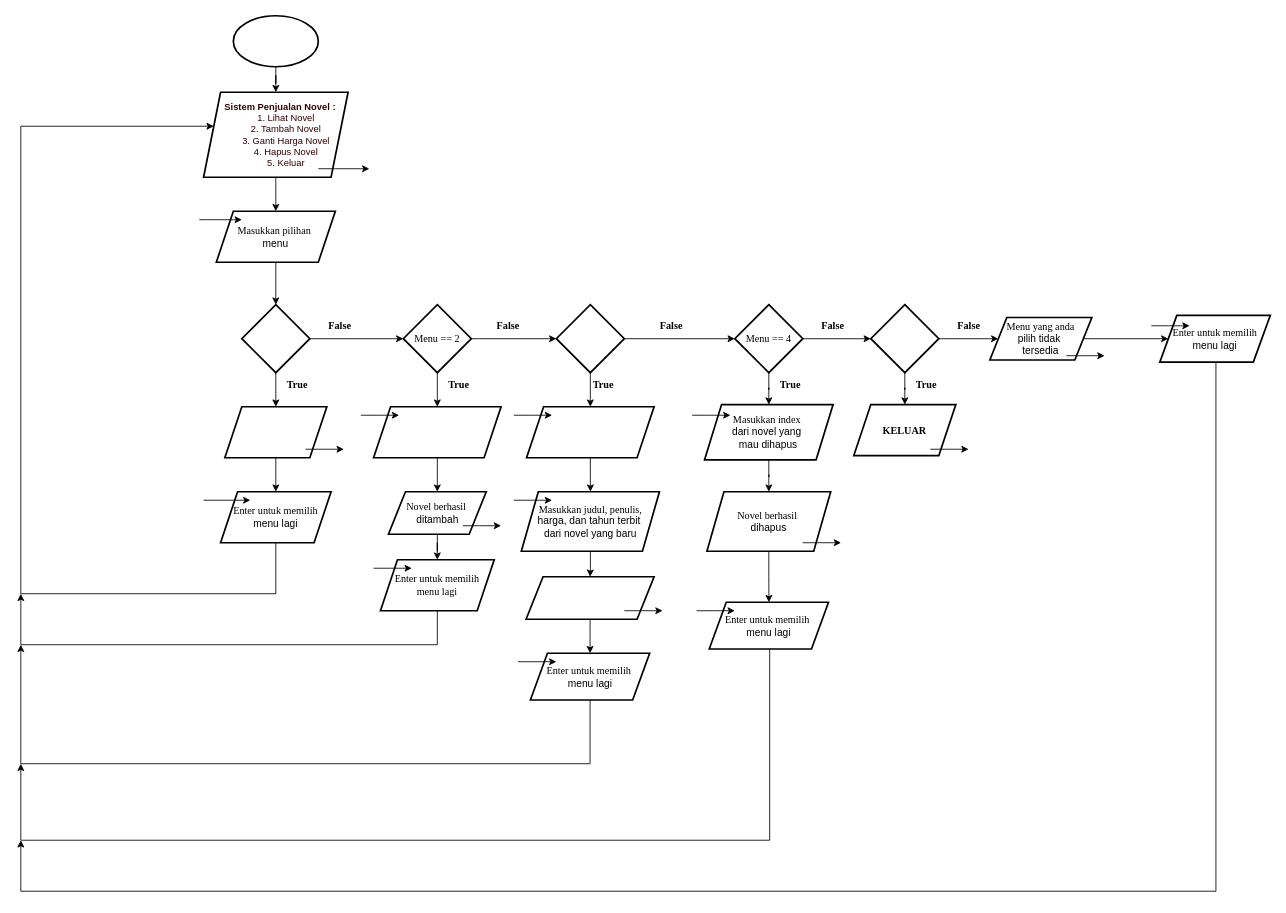
This 1286x913 diagram has some shape labels left out. The shapes that lost their labels are listed below. From the top down, each one's centre as x and y in pixels, then its label:
(275,40): Start
(275,338): Menu == 1
(590,338): Menu == 3
(904,338): Menu == 5
(275,431): Lihat daftar novel
(437,431): Masukkan Judul, Author, Harga, Tahun terbit novel yang mau di tambah
(589,431): Masukkan index dari novel yang mau diganti
(589,597): Novel berhasil diganti dengan novel yang baru
